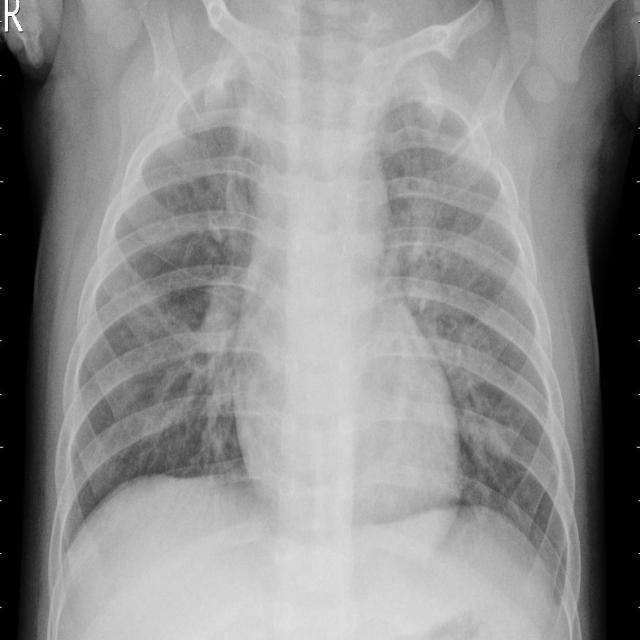low-pneumonia: (400, 153, 522, 502), (165, 67, 258, 242), (169, 282, 237, 442)
